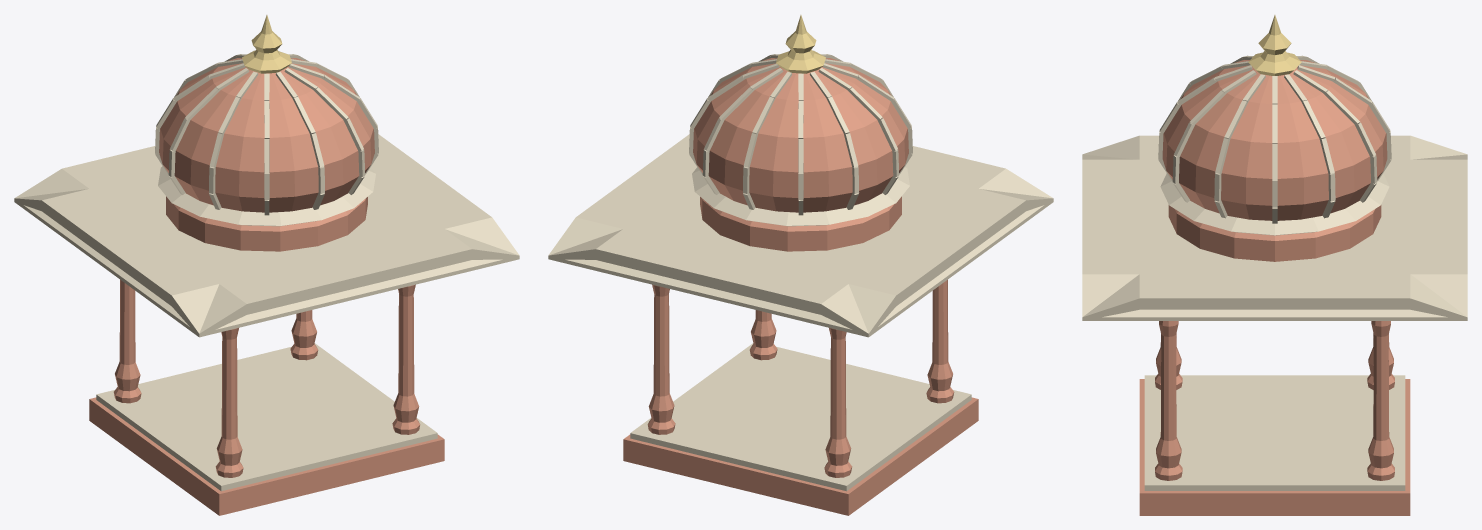
The model's file is kit_chhatri2.glb.
The picture shows the model from 3 angles, left to right: view 1: azimuth 30°, elevation 25°; view 2: azimuth 150°, elevation 25°; view 3: azimuth 270°, elevation 25°; orthographic projection. The views are drawn at different scales.
Visible parts, largest first — view 1: kit_chhatri2; view 2: kit_chhatri2; view 3: kit_chhatri2.
Part boxes in pixels (x1,y1,x2,y2): kit_chhatri2: (14,15,519,515); kit_chhatri2: (548,15,1053,515); kit_chhatri2: (1082,15,1467,515).
Size of the model in its own units: 3.7 by 4.71 by 3.7.
